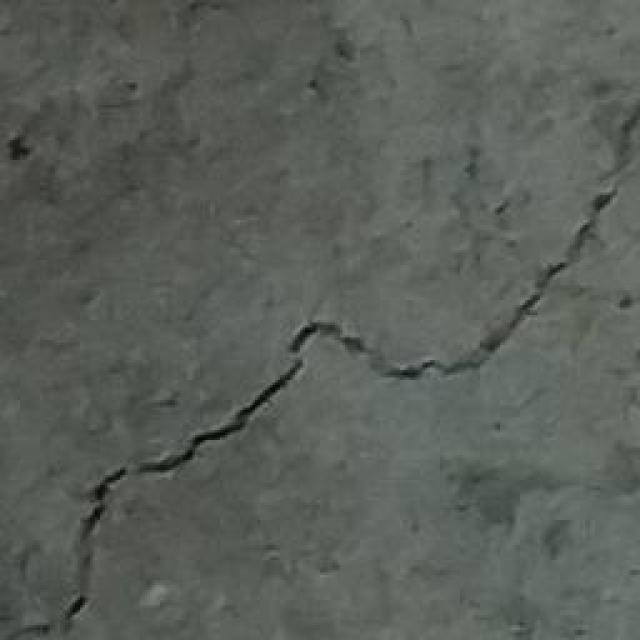Diagonal: (0, 165, 638, 640)
